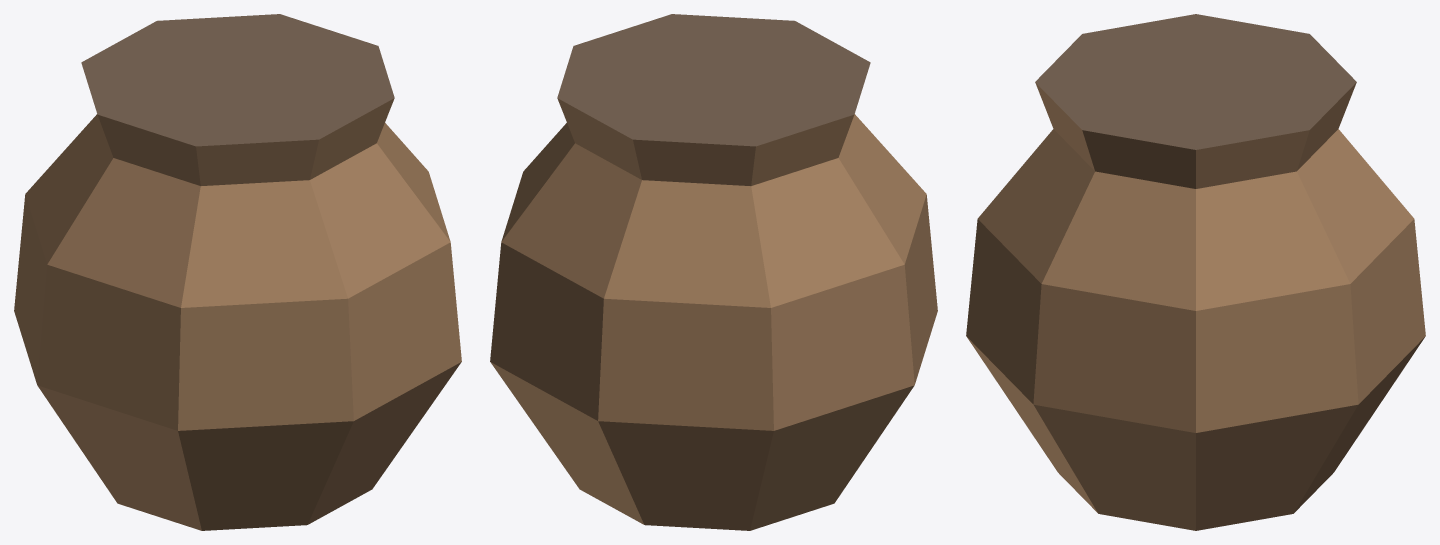
The model's file is w3d_item_raw_pot_s.glb.
The picture shows the model from 3 angles, left to right: view 1: azimuth 30°, elevation 25°; view 2: azimuth 150°, elevation 25°; view 3: azimuth 270°, elevation 25°; orthographic projection.
Visible parts, largest first — view 1: item_008_raw_pot_s; view 2: item_008_raw_pot_s; view 3: item_008_raw_pot_s.
Boxes of the visible parts, box(x1,y1,x2,y2) form: item_008_raw_pot_s: box(14, 14, 461, 530); item_008_raw_pot_s: box(490, 14, 937, 530); item_008_raw_pot_s: box(966, 14, 1425, 530).
Size of the model in its own units: 0.32 by 0.3 by 0.32.
